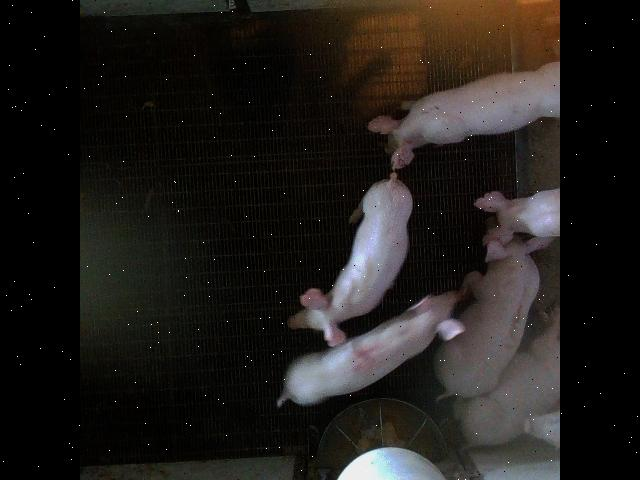pig-3: (435, 236, 552, 396)
pig-4: (276, 291, 465, 406)
